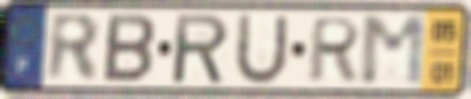B: (100, 11, 158, 86)
M: (359, 13, 428, 89)
R: (172, 12, 231, 87), (303, 16, 364, 86), (46, 11, 103, 85)
U: (230, 11, 291, 89)
